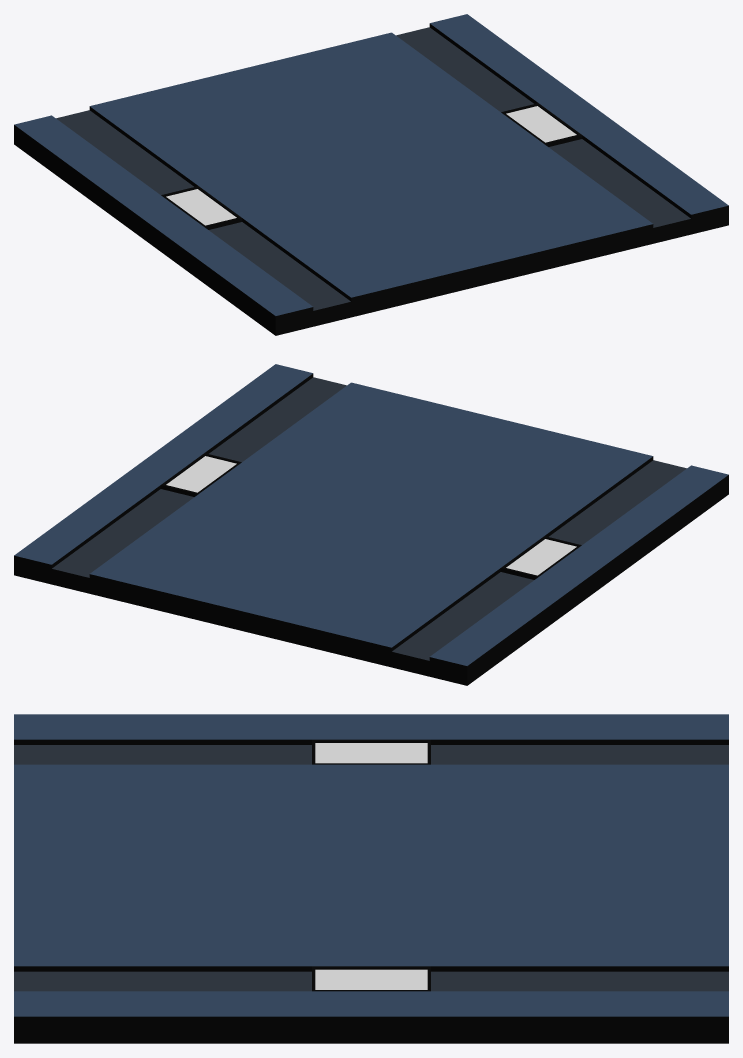
Rendered from HallwayFloorStraight.fbx.
3 views of the same model, one above another, from view 1: azimuth 30°, elevation 25°; view 2: azimuth 150°, elevation 25°; view 3: azimuth 270°, elevation 25° (orthographic). The views are drawn at different scales.
Parts seen in each view (by area): view 1: HallwayFloorIStraight; view 2: HallwayFloorIStraight; view 3: HallwayFloorIStraight.
Boxes of the visible parts, x1,y1,x2,y2 form: HallwayFloorIStraight: (14, 14, 728, 335); HallwayFloorIStraight: (14, 364, 728, 685); HallwayFloorIStraight: (14, 714, 728, 1043).
Bounding box in the file's own units: 600 × 25 × 600.
